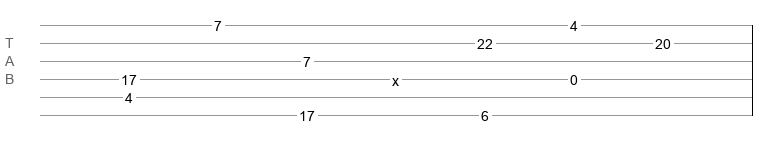0: (570, 72, 578, 82)
17: (121, 72, 137, 82), (299, 108, 315, 118)
20: (655, 36, 671, 46)
22: (477, 36, 493, 46)
4: (125, 90, 133, 100), (570, 18, 578, 28)
6: (481, 108, 489, 118)
7: (214, 18, 222, 28), (303, 54, 311, 64)
x: (392, 73, 399, 81)
